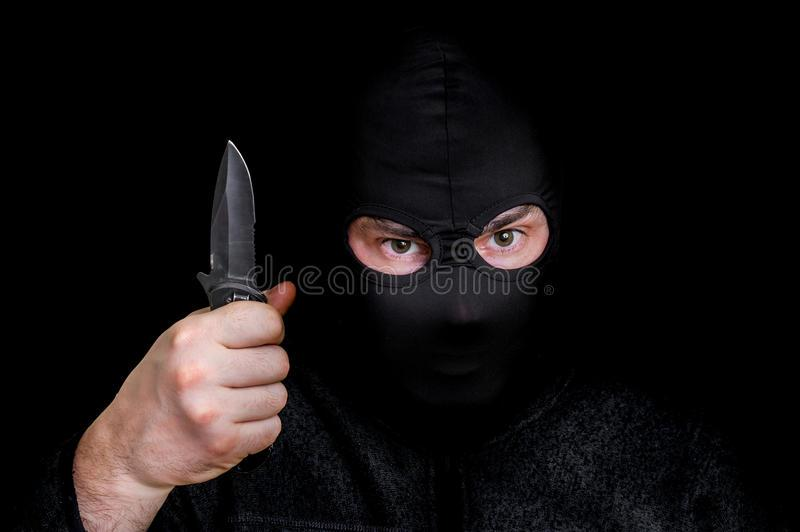criminal: (33, 48, 762, 532)
weapon: (196, 137, 265, 323)
